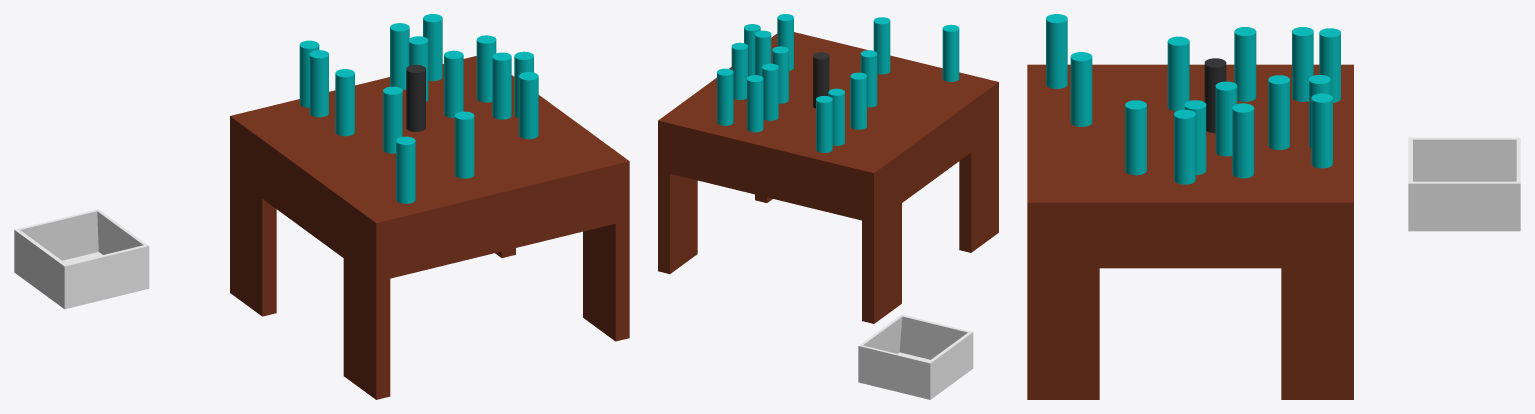
The model's file is can_world_15_cans.dae.
3 renders of one model, left to right at view 1: azimuth 30°, elevation 25°; view 2: azimuth 150°, elevation 25°; view 3: azimuth 270°, elevation 25°, orthographic. The views are drawn at different scales.
Parts seen in each view (by area): view 1: base (×19), SketchUp (×2); view 2: base (×19), SketchUp (×2); view 3: base (×18), SketchUp (×2).
Boxes of the visible parts, <box> form: base (×19): <box>230,14,629,399</box>; SketchUp (×2): <box>14,209,149,309</box>; base (×19): <box>658,14,998,323</box>; SketchUp (×2): <box>858,314,973,399</box>; base (×18): <box>1027,14,1353,399</box>; SketchUp (×2): <box>1408,137,1520,231</box>.
Size of the model in its own units: 1.4 by 1.36 by 0.811.
